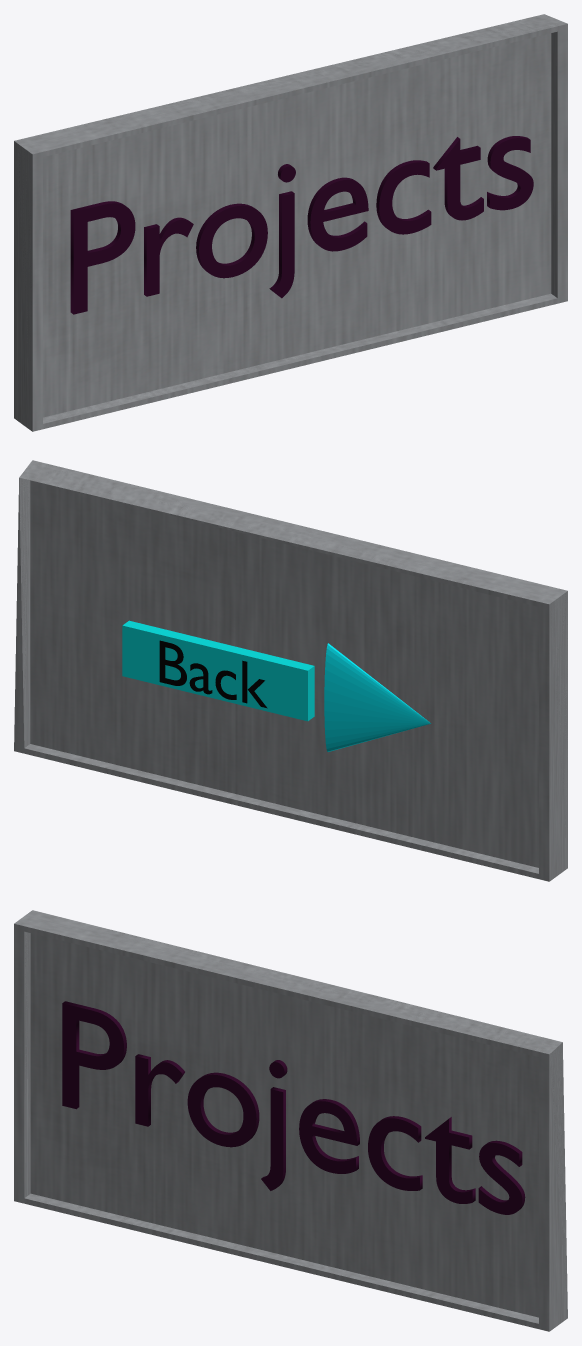
File: Projects2.glb
The picture shows the model from 3 angles, top to bottom: view 1: azimuth 30°, elevation 25°; view 2: azimuth 150°, elevation 25°; view 3: azimuth 330°, elevation 25°; orthographic projection.
Parts seen in each view (by area): view 1: Cube, Text; view 2: Cube, Cube.001, Cone, Text.001; view 3: Cube, Text.
Part boxes in pixels (<box>): Cube: <box>14,14,567,431</box>; Text: <box>70,136,533,314</box>; Cube: <box>14,460,567,881</box>; Cube.001: <box>122,620,314,721</box>; Cone: <box>324,643,430,751</box>; Text.001: <box>159,640,267,708</box>; Cube: <box>14,910,567,1331</box>; Text: <box>62,1001,525,1214</box>.
Size of the model in its own units: 304 by 151 by 19.48.
5 materials, 1 textured.
